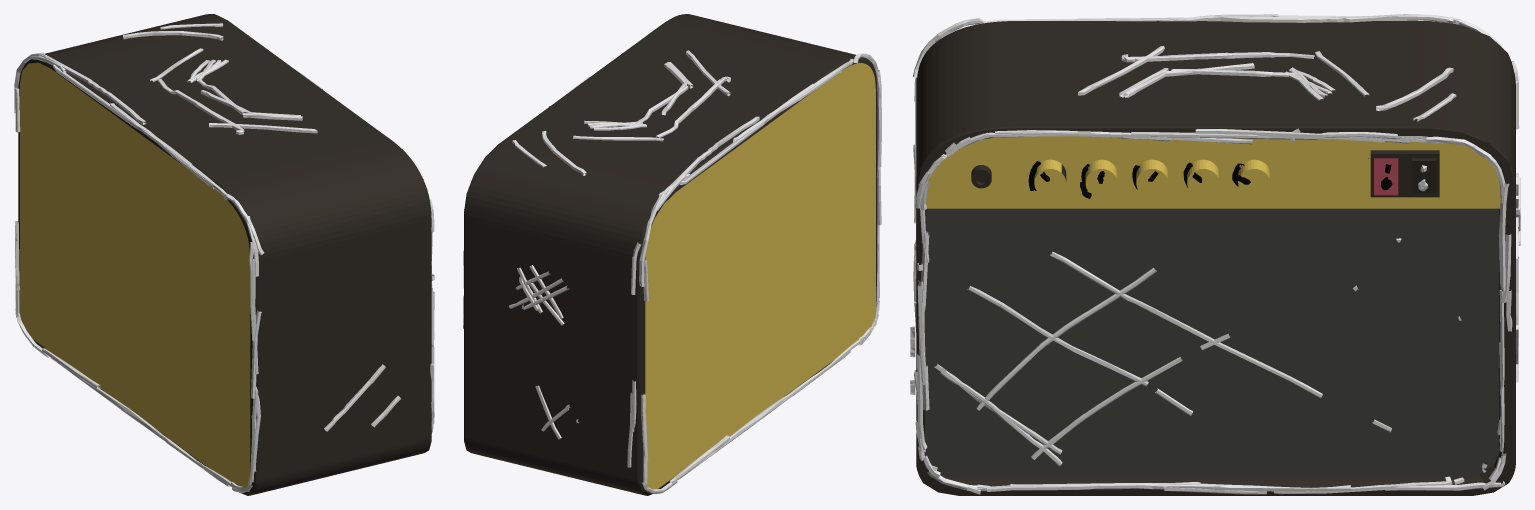
File: amp.glb
3 views of the same model, side by side, from view 1: azimuth 30°, elevation 25°; view 2: azimuth 150°, elevation 25°; view 3: azimuth 270°, elevation 25° (orthographic). The views are drawn at different scales.
Visible parts, largest first — view 1: Amp_, lines_white_amp; view 2: Amp_, lines_white_amp; view 3: Amp_, lines_white_amp, lines_black_amp.
Part boxes in pixels (x1,y1,x2,y2): Amp_: [18, 14, 431, 495]; lines_white_amp: [14, 23, 434, 492]; Amp_: [464, 14, 877, 495]; lines_white_amp: [463, 22, 881, 493]; Amp_: [916, 21, 1515, 495]; lines_white_amp: [910, 14, 1520, 494]; lines_black_amp: [1028, 154, 1392, 198].
Bounding box in the file's own units: 0.3235 × 0.4752 × 0.6965.
